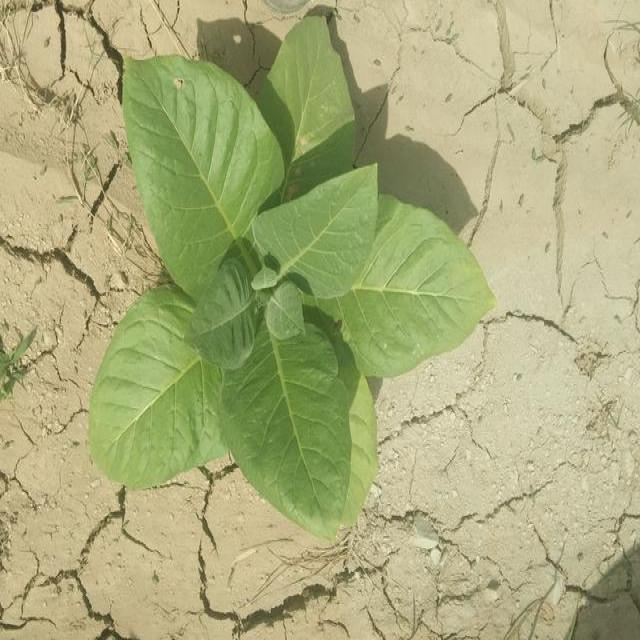crop: (85, 20, 492, 533)
